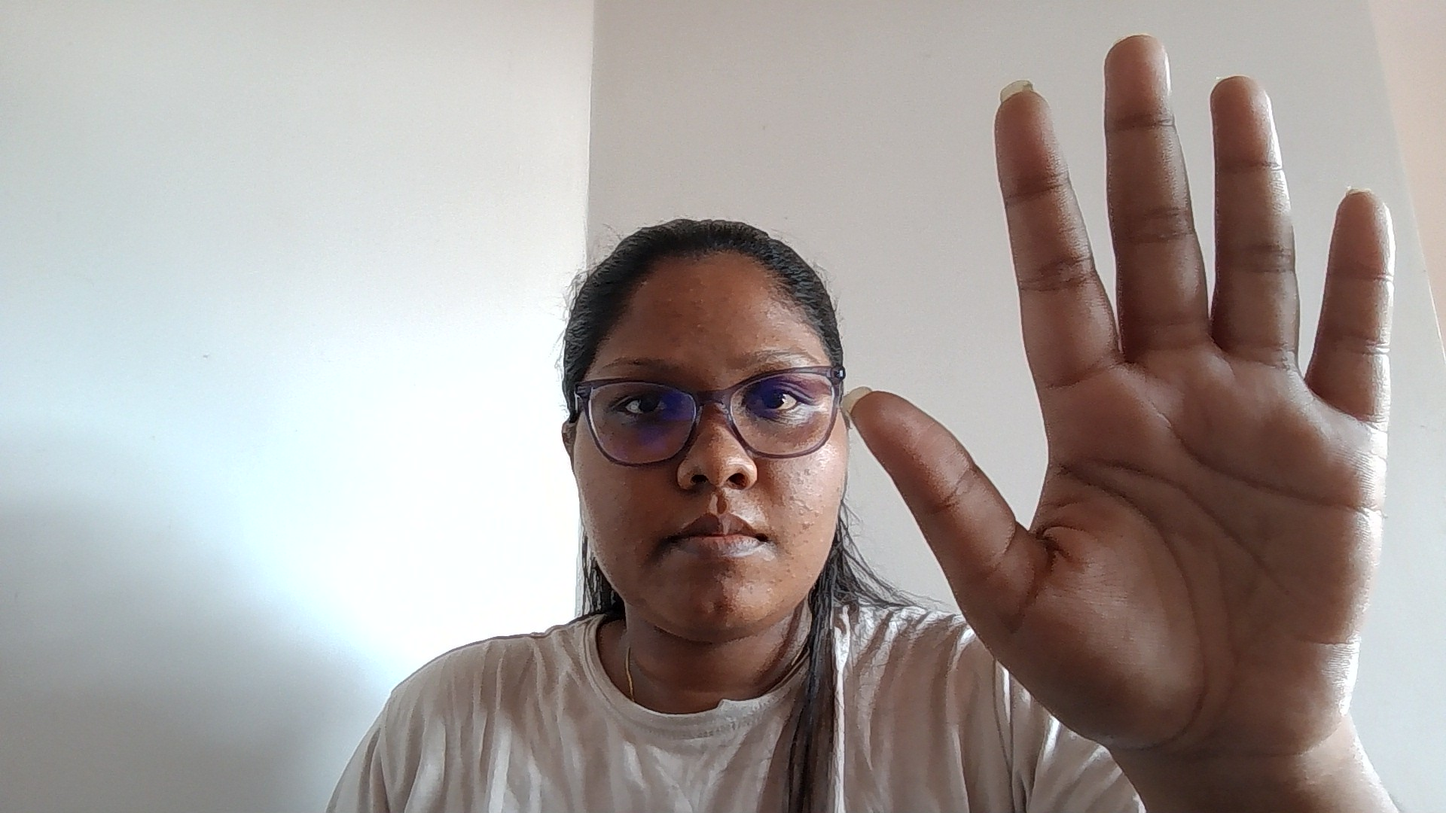Hello: (838, 38, 1430, 753)
